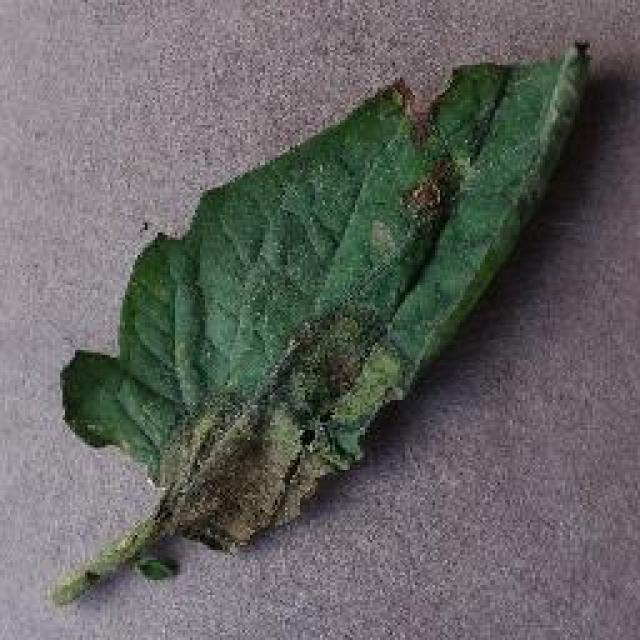Tomato___Late_blight: (52, 42, 590, 602)
